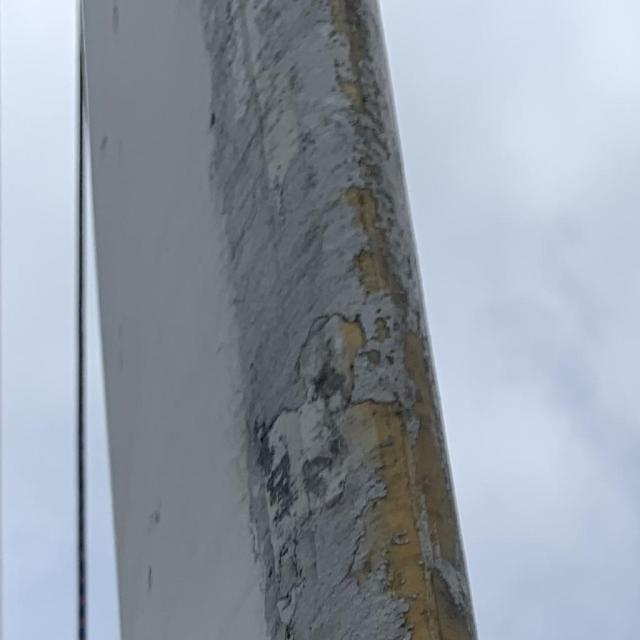corrosion: (243, 6, 478, 639)
